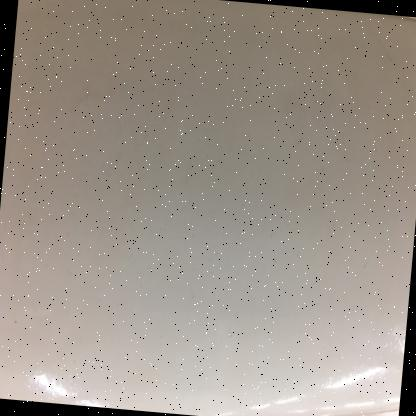Nocrack: (5, 16, 415, 415)
